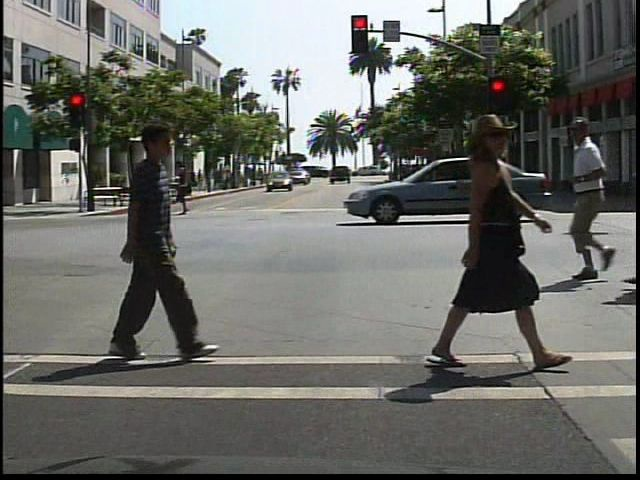person: (80, 122, 226, 363), (426, 112, 556, 371), (566, 110, 637, 294), (172, 157, 202, 218), (131, 164, 152, 209)
